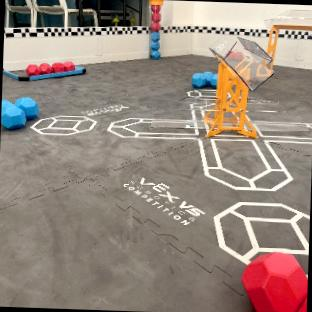V5_BLUE: (1, 97, 38, 129), (191, 72, 217, 88), (151, 30, 160, 58)
V5_RED: (243, 252, 307, 312), (26, 61, 75, 76), (227, 51, 243, 60)
